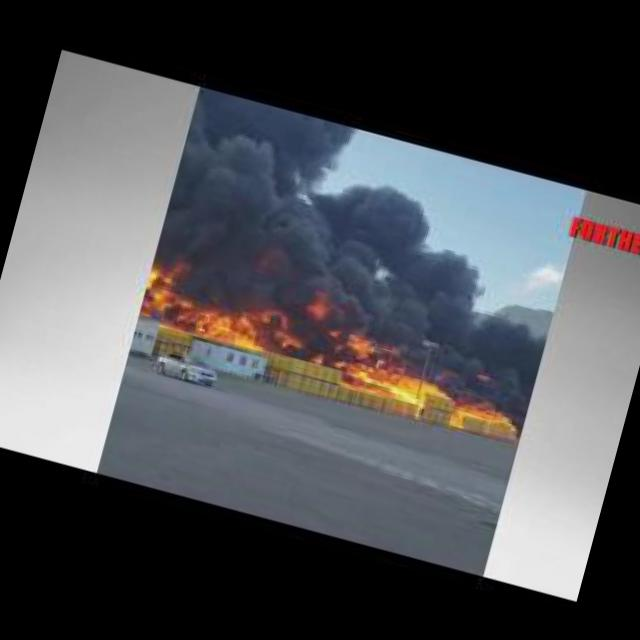fire: (337, 351, 521, 428), (142, 272, 284, 354)
smoke: (144, 93, 586, 401)
